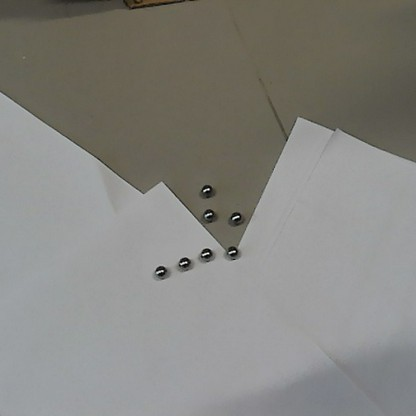ironball: (227, 207, 244, 226), (197, 182, 215, 199), (176, 254, 192, 272), (201, 206, 216, 225), (224, 244, 242, 259), (153, 264, 167, 278), (197, 247, 210, 260)
